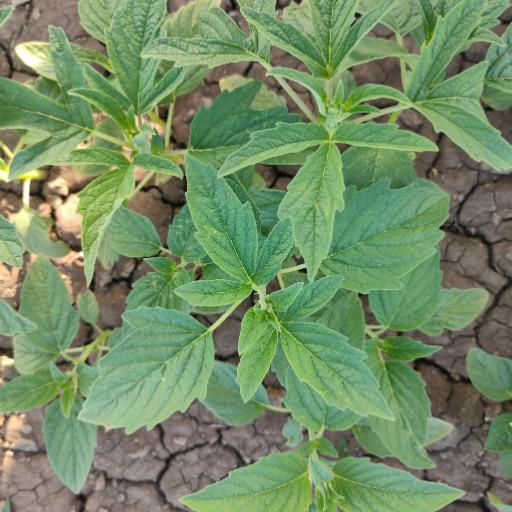crop: (6, 5, 495, 474)
